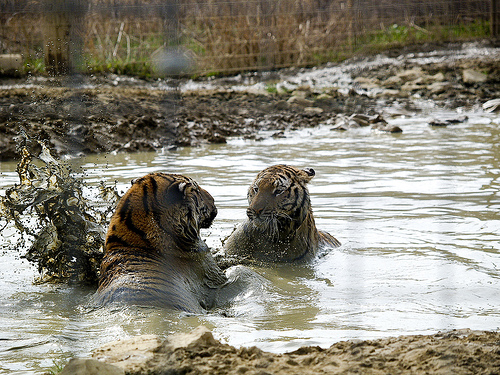Tigre: (86, 155, 219, 311), (241, 163, 346, 274)
